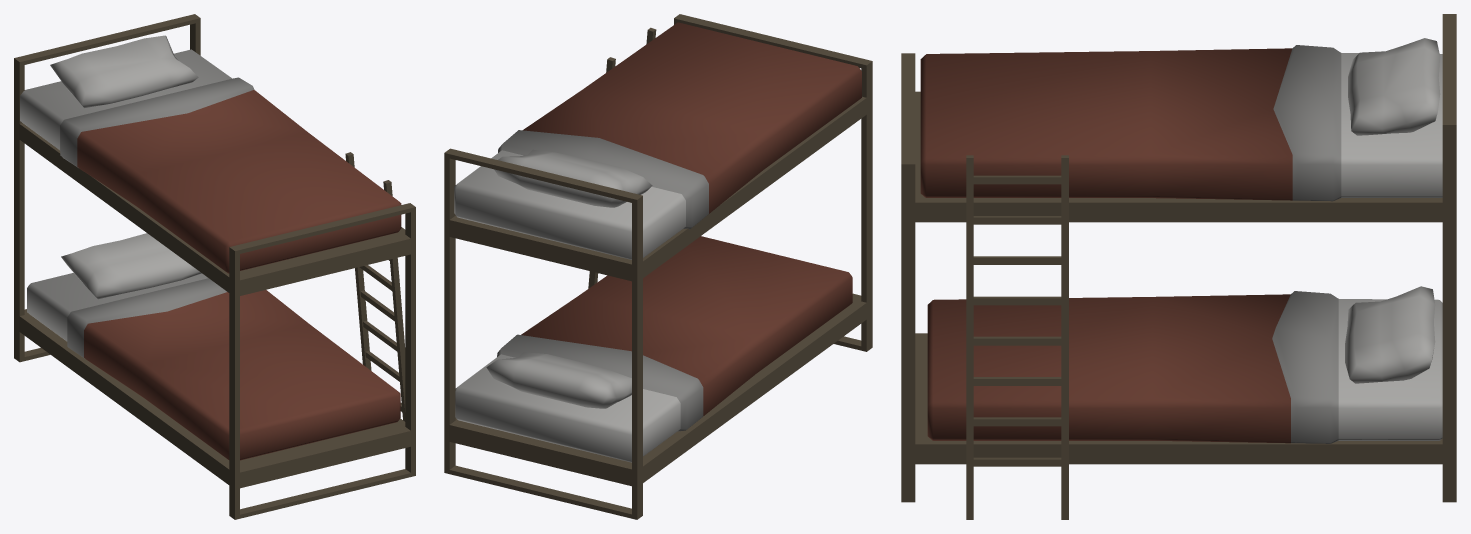
File: quaternius-house-interior-bed-bunk.glb
3 renders of one model, left to right at view 1: azimuth 30°, elevation 25°; view 2: azimuth 150°, elevation 25°; view 3: azimuth 270°, elevation 25°, orthographic. The views are drawn at different scales.
Visible parts, largest first — view 1: Bed_Bunk; view 2: Bed_Bunk; view 3: Bed_Bunk.
Boxes of the visible parts, bbox=[...] form: Bed_Bunk: bbox=[14, 14, 415, 519]; Bed_Bunk: bbox=[444, 14, 872, 519]; Bed_Bunk: bbox=[901, 14, 1456, 519].
Bounding box in the file's own units: 2.17 × 3.03 × 4.
